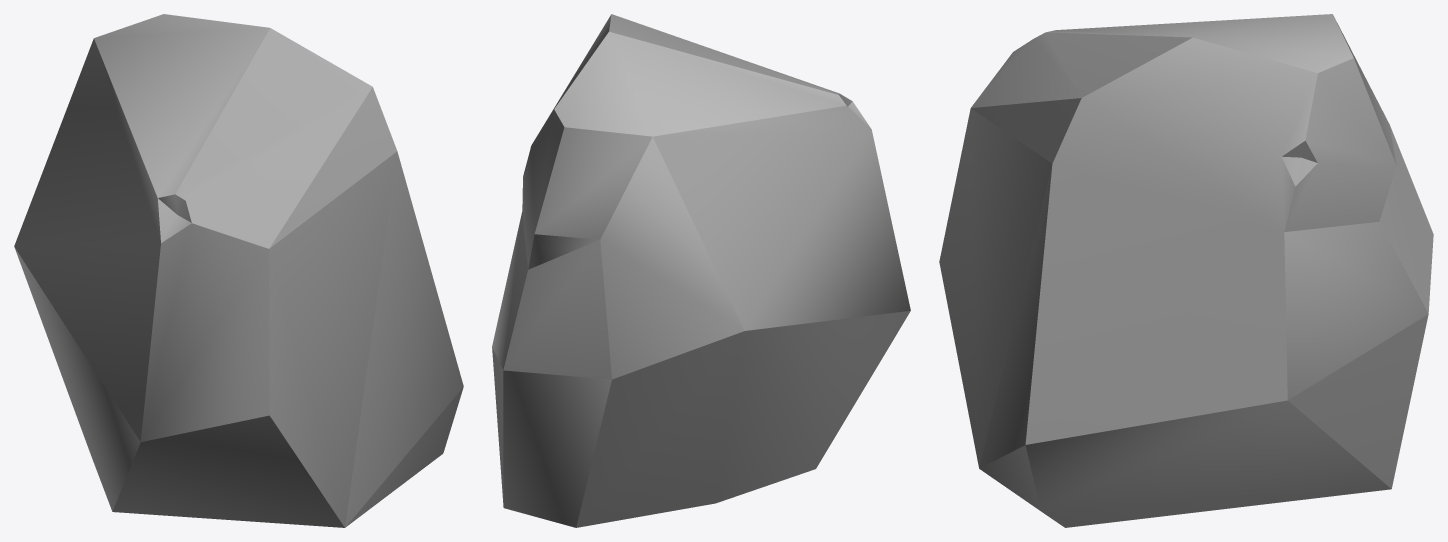
The model's file is SK_Rock_005.FBX.
3 views of the same model, side by side, from view 1: azimuth 30°, elevation 25°; view 2: azimuth 150°, elevation 25°; view 3: azimuth 270°, elevation 25° (orthographic). The views are drawn at different scales.
Visible parts, largest first — view 1: SK_Rock_005; view 2: SK_Rock_005; view 3: SK_Rock_005.
Boxes of the visible parts, left/top/right/bottom form: SK_Rock_005: left=14, top=14, right=463, bottom=527; SK_Rock_005: left=492, top=14, right=910, bottom=527; SK_Rock_005: left=939, top=14, right=1433, bottom=527.
Size of the model in its own units: 34.39 by 41.42 by 41.73.
1 material, 1 textured.
